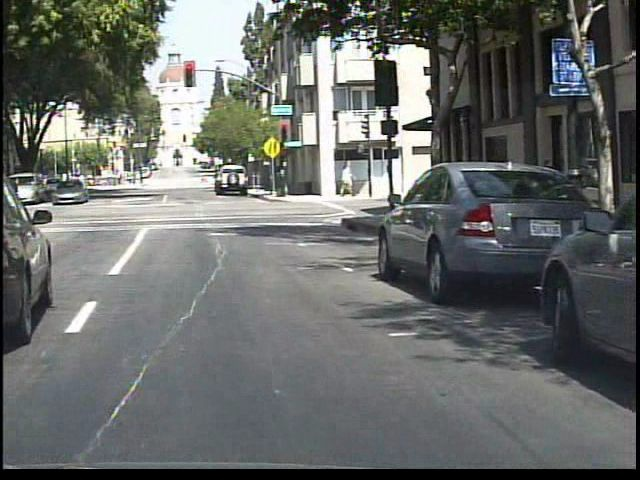person: (9, 172, 30, 213), (198, 173, 212, 190), (2, 175, 3, 212)
